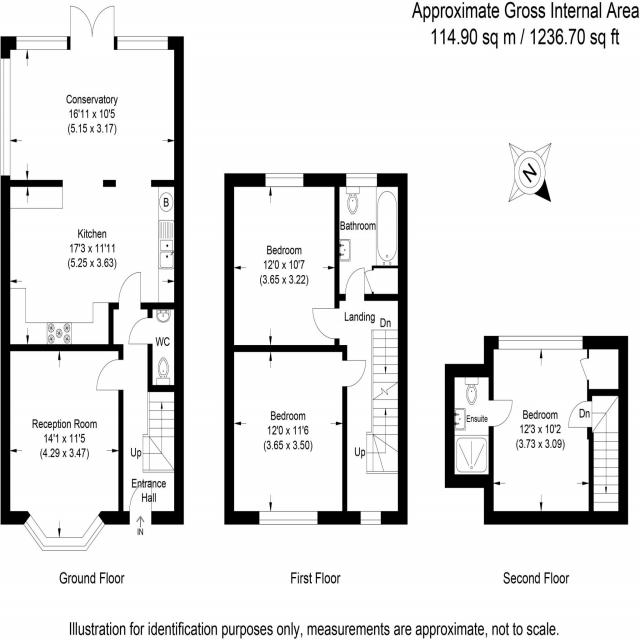DOOR: (127, 474, 153, 525), (309, 305, 340, 341), (117, 269, 144, 310), (95, 355, 123, 392), (489, 396, 516, 433), (342, 356, 369, 390), (125, 316, 152, 347), (345, 263, 367, 301)
DOUBLE DOOR: (68, 1, 117, 51)
ROOM: (444, 335, 629, 524), (224, 344, 371, 525), (0, 344, 124, 550), (224, 172, 340, 352)
WINDOW: (19, 509, 109, 553), (497, 332, 585, 351), (0, 55, 13, 180), (258, 508, 320, 527), (15, 31, 69, 52), (115, 32, 171, 52), (265, 170, 306, 189), (344, 170, 379, 189), (359, 509, 382, 527)
